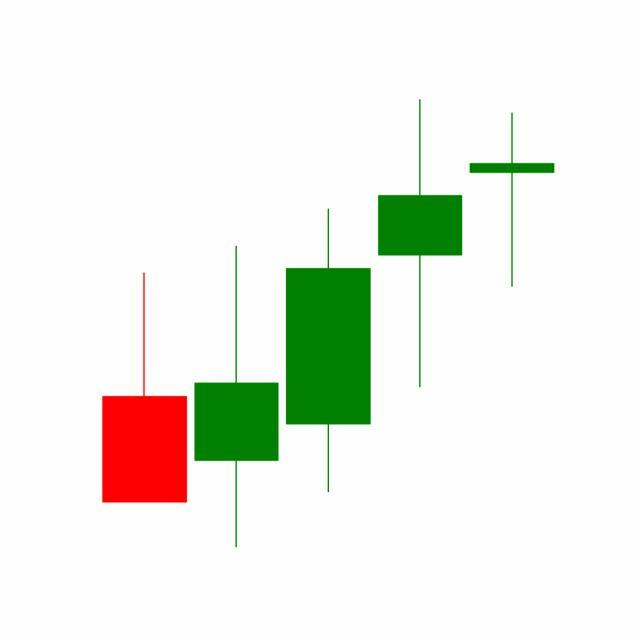Advance Block: (280, 99, 555, 498)
